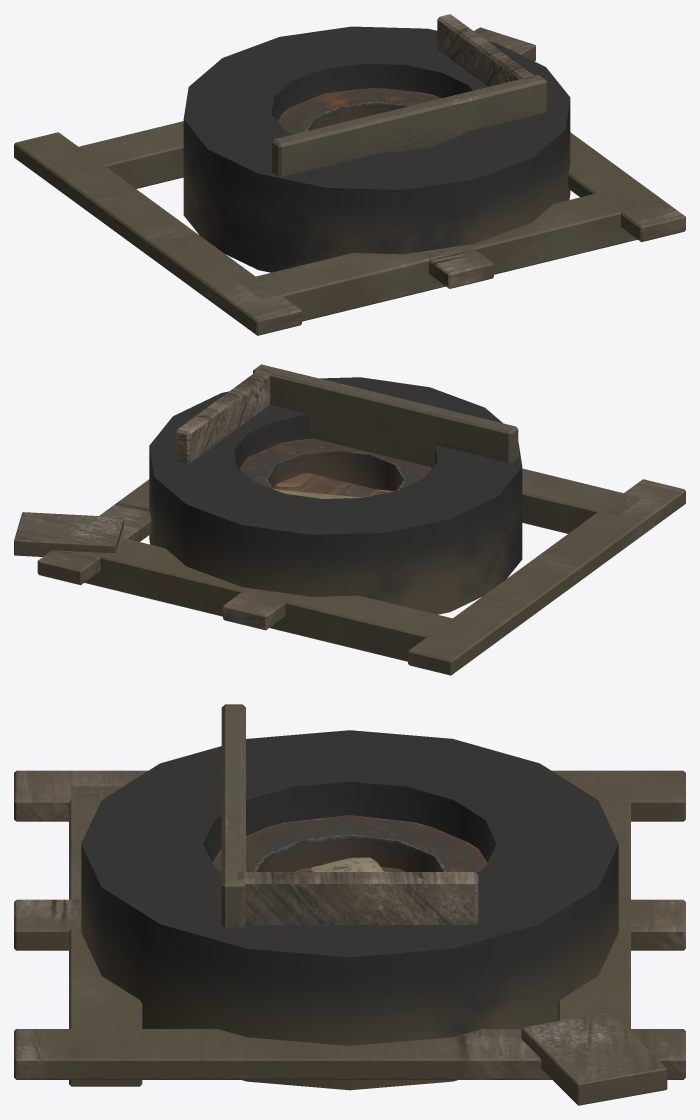
The model's file is prop_floor_scatter.glb.
The picture shows the model from 3 angles, top to bottom: view 1: azimuth 30°, elevation 25°; view 2: azimuth 150°, elevation 25°; view 3: azimuth 270°, elevation 25°; orthographic projection. The views are drawn at different scales.
Parts seen in each view (by area): view 1: Tire_01, BrokenPallet_01, CrateFragment_01; view 2: Tire_01, BrokenPallet_01, CrateFragment_01, Brick_01; view 3: Tire_01, BrokenPallet_01, CrateFragment_01, Brick_02.
Boxes of the visible parts, bbox=[...] form: Tire_01: bbox=[183, 26, 570, 272]; BrokenPallet_01: bbox=[14, 27, 685, 335]; CrateFragment_01: bbox=[272, 14, 546, 176]; Tire_01: bbox=[149, 377, 522, 614]; BrokenPallet_01: bbox=[14, 468, 685, 675]; CrateFragment_01: bbox=[175, 364, 518, 468]; Brick_01: bbox=[274, 473, 388, 497]; Tire_01: bbox=[81, 730, 618, 1090]; BrokenPallet_01: bbox=[14, 770, 685, 1105]; CrateFragment_01: bbox=[221, 704, 478, 927]; Brick_02: bbox=[310, 857, 383, 871].
Bounding box in the file's own units: 0.6305 × 0.16 × 0.55.
7 materials, 7 textured.
